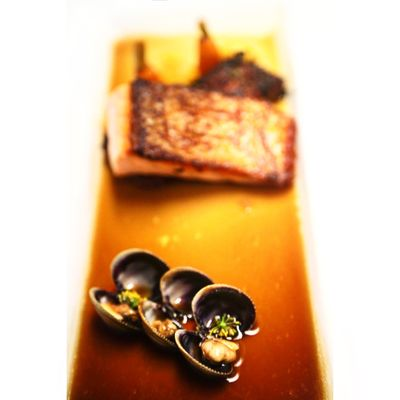sushi: (88, 287, 144, 338)
